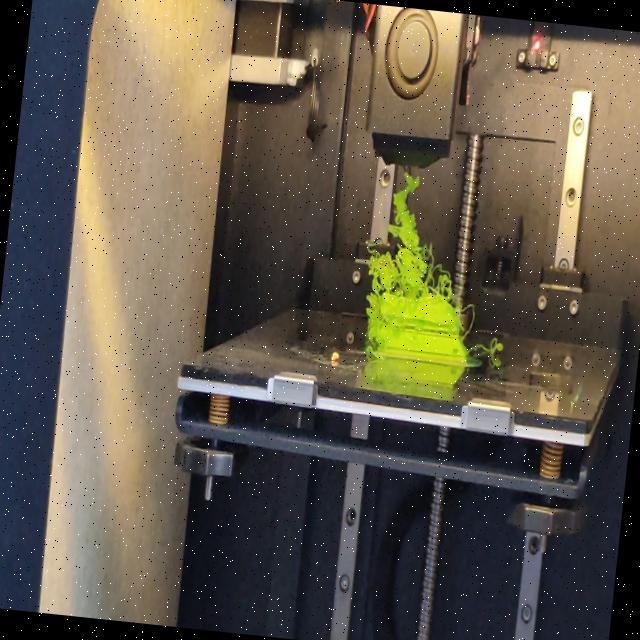spaghetti: (364, 167, 468, 300), (363, 296, 382, 358), (471, 331, 506, 361), (462, 299, 476, 347)
